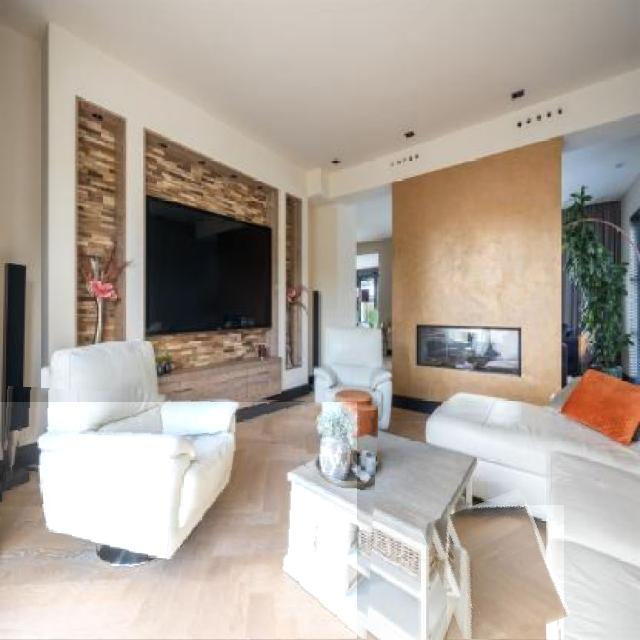floor: (0, 403, 356, 639), (447, 505, 564, 640)
